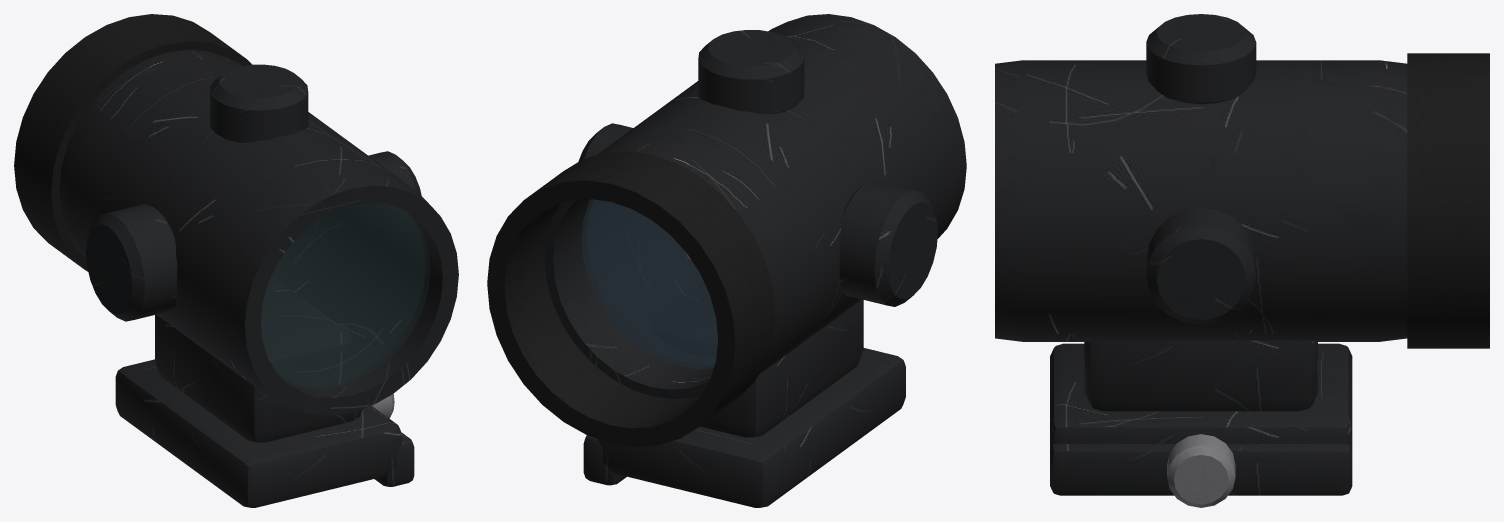
Rendered from Optic_RedDot.glb.
3 renders of one model, left to right at view 1: azimuth 30°, elevation 25°; view 2: azimuth 150°, elevation 25°; view 3: azimuth 270°, elevation 25°, orthographic. The views are drawn at different scales.
Visible parts, largest first — view 1: Optic_RedDot_Body; view 2: Optic_RedDot_Body; view 3: Optic_RedDot_Body.
Part boxes in pixels (x1=…): Optic_RedDot_Body: x1=14, y1=14, x2=458, y2=507; Optic_RedDot_Body: x1=487, y1=14, x2=966, y2=507; Optic_RedDot_Body: x1=995, y1=14, x2=1489, y2=507.
Size of the model in its own units: 0.055 by 0.067 by 0.072.
Materials: 6 (3 with a texture image).
